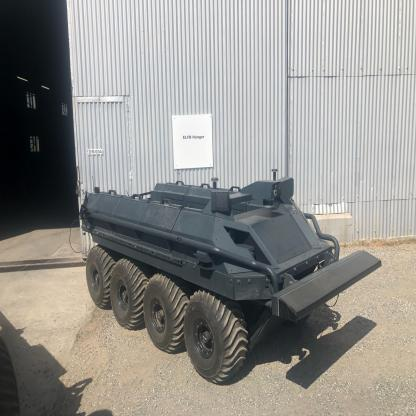UGV: (77, 167, 384, 384)
